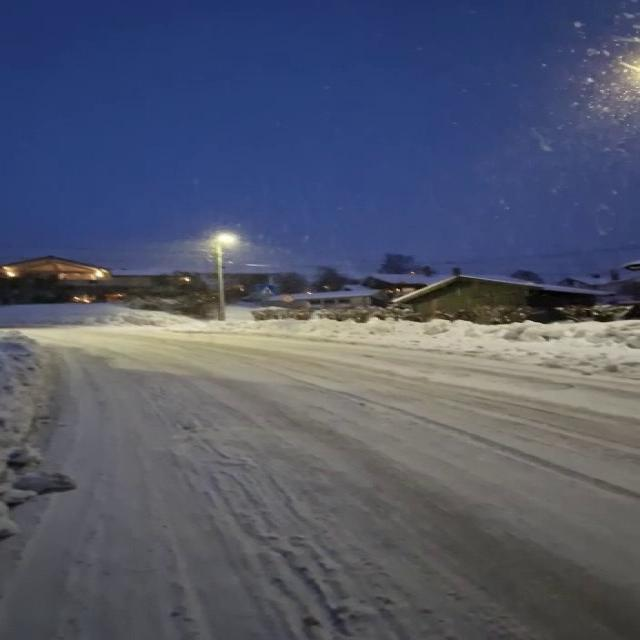path: (3, 328, 638, 640)
